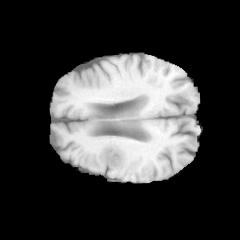glioma: (98, 143, 125, 169)
